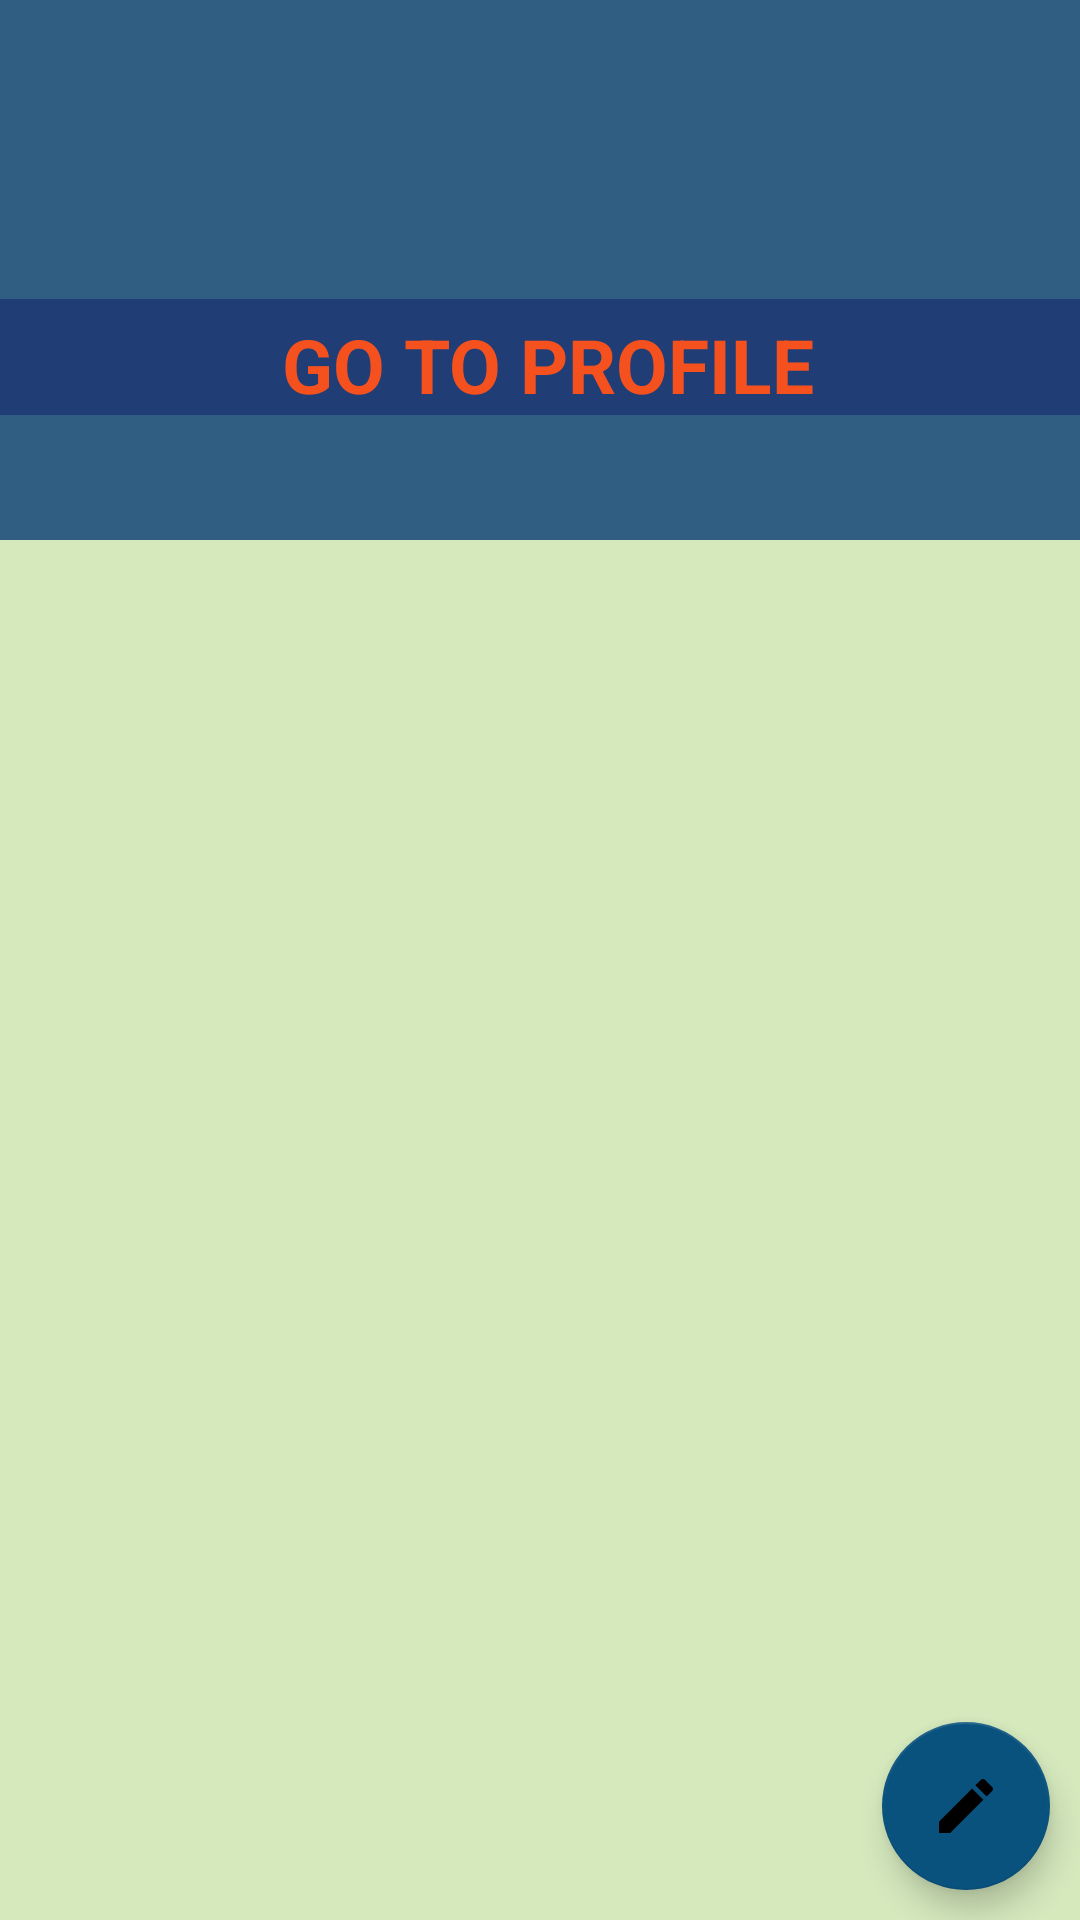

Screen size 1080 x 1920. Icon name, then its center in pixels as [x,y]:
edit: [966,1806]
